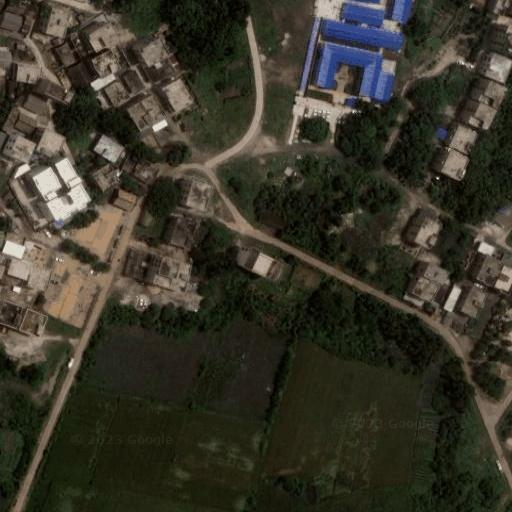building: (310, 41, 383, 99), (322, 19, 403, 53), (298, 16, 322, 95), (46, 183, 91, 221), (244, 246, 287, 282), (128, 96, 167, 133), (155, 257, 192, 292), (0, 256, 34, 289), (341, 3, 387, 27), (33, 167, 62, 203), (163, 79, 194, 112), (148, 54, 182, 84), (439, 150, 471, 181), (85, 23, 118, 53), (118, 246, 146, 280), (36, 128, 66, 159), (140, 37, 171, 67), (93, 134, 125, 163), (170, 217, 198, 250), (186, 180, 213, 213), (91, 50, 121, 78), (450, 124, 478, 154), (485, 52, 512, 83), (65, 59, 93, 88), (476, 256, 502, 287), (462, 287, 487, 319), (93, 164, 121, 192), (54, 158, 80, 188), (416, 218, 442, 248), (55, 40, 82, 68), (104, 78, 130, 107), (480, 79, 505, 109), (21, 310, 48, 337), (27, 264, 53, 292), (258, 209, 291, 231), (47, 8, 71, 38), (133, 159, 160, 184), (471, 103, 496, 130), (373, 71, 394, 102), (10, 136, 35, 162), (413, 276, 439, 301), (123, 70, 147, 96), (492, 198, 512, 228), (492, 263, 512, 293), (14, 113, 40, 136), (22, 94, 49, 116), (424, 263, 450, 285), (45, 83, 73, 103), (444, 284, 463, 312), (1, 11, 25, 33), (89, 72, 116, 91), (114, 189, 137, 211), (2, 109, 21, 135), (140, 120, 167, 138), (390, 0, 411, 23), (17, 65, 42, 82), (3, 241, 25, 260), (0, 45, 13, 76), (404, 290, 425, 308), (432, 283, 448, 306), (501, 26, 512, 54), (123, 152, 138, 172), (418, 208, 439, 222), (13, 163, 31, 179), (379, 59, 397, 75), (493, 0, 509, 16), (382, 50, 399, 62), (434, 127, 448, 141), (345, 98, 357, 110), (52, 38, 65, 49), (16, 51, 33, 59), (165, 300, 177, 310), (8, 81, 15, 97), (487, 12, 497, 19), (192, 284, 200, 292), (16, 45, 25, 51)
